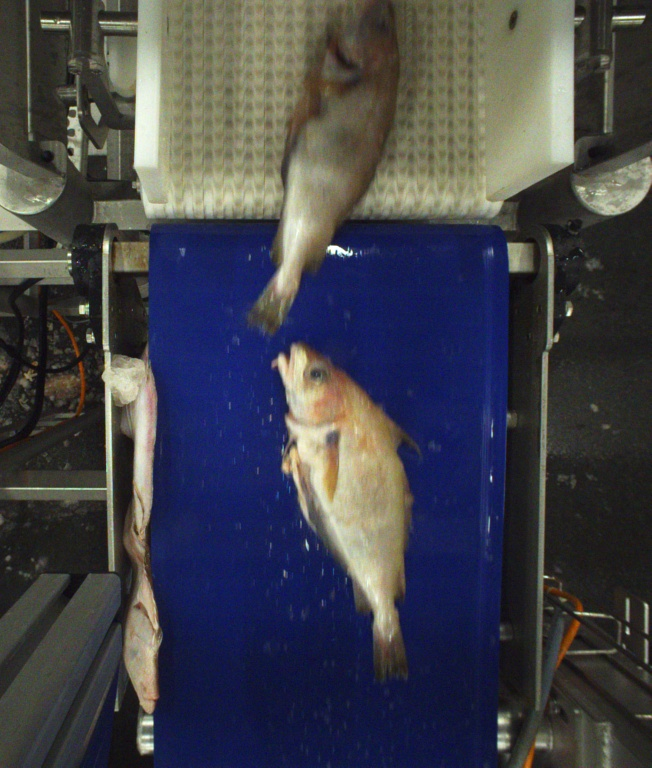BIB: (249, 0, 399, 333)
